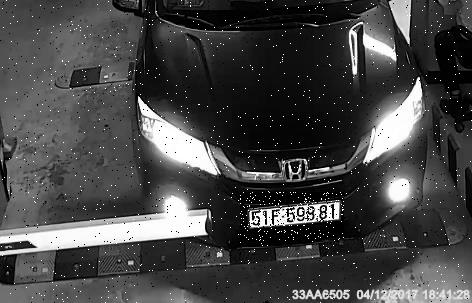License-plate: (241, 194, 345, 243)
